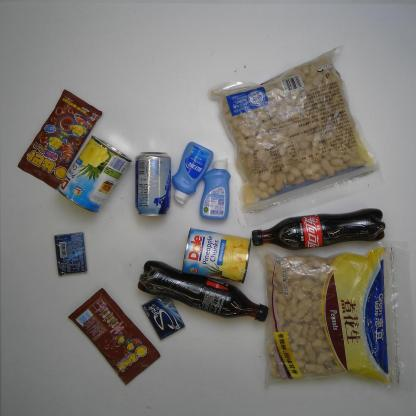Alcohol: (134, 150, 172, 218)
Candy: (65, 286, 162, 386), (17, 88, 102, 192)
Canned Food: (57, 134, 132, 215), (180, 227, 252, 285)
Dried Food: (206, 41, 382, 227), (255, 238, 407, 393)
Drink: (136, 259, 270, 324), (250, 208, 389, 252)
Gum: (140, 293, 186, 341), (53, 230, 88, 278)
Personal Hygiene: (171, 141, 214, 207), (197, 154, 232, 219)
